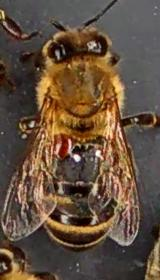varroa_mite: (47, 132, 76, 158)
